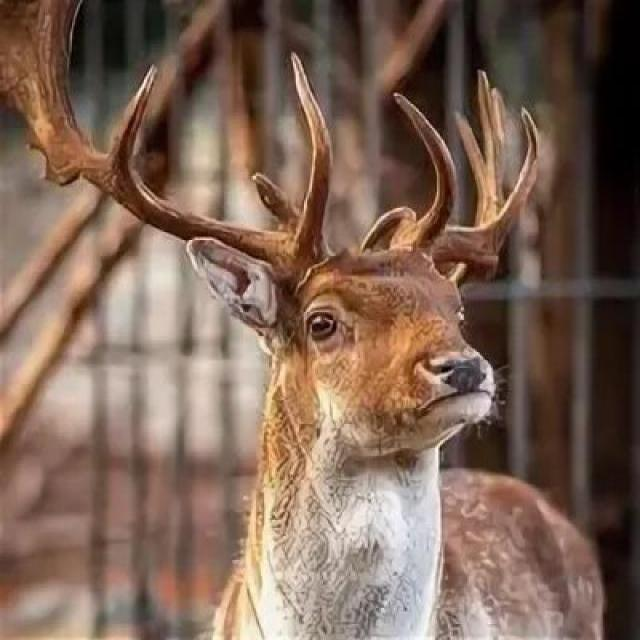deer: (59, 89, 588, 640)
